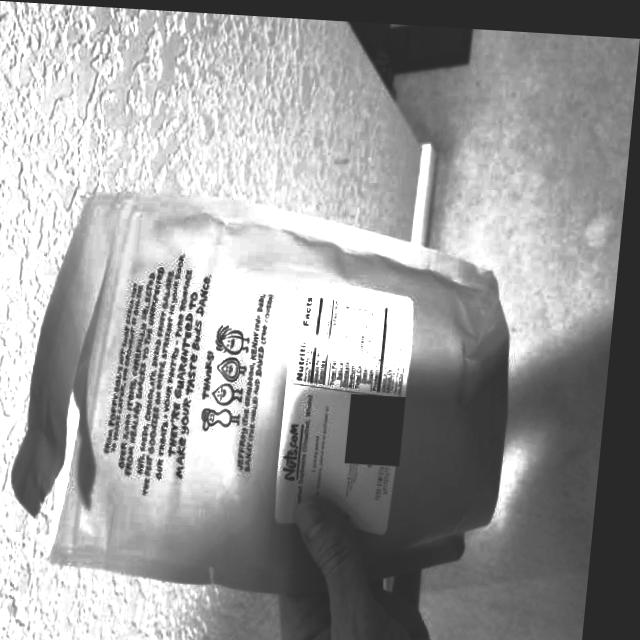qr_code: (354, 388, 413, 460)
